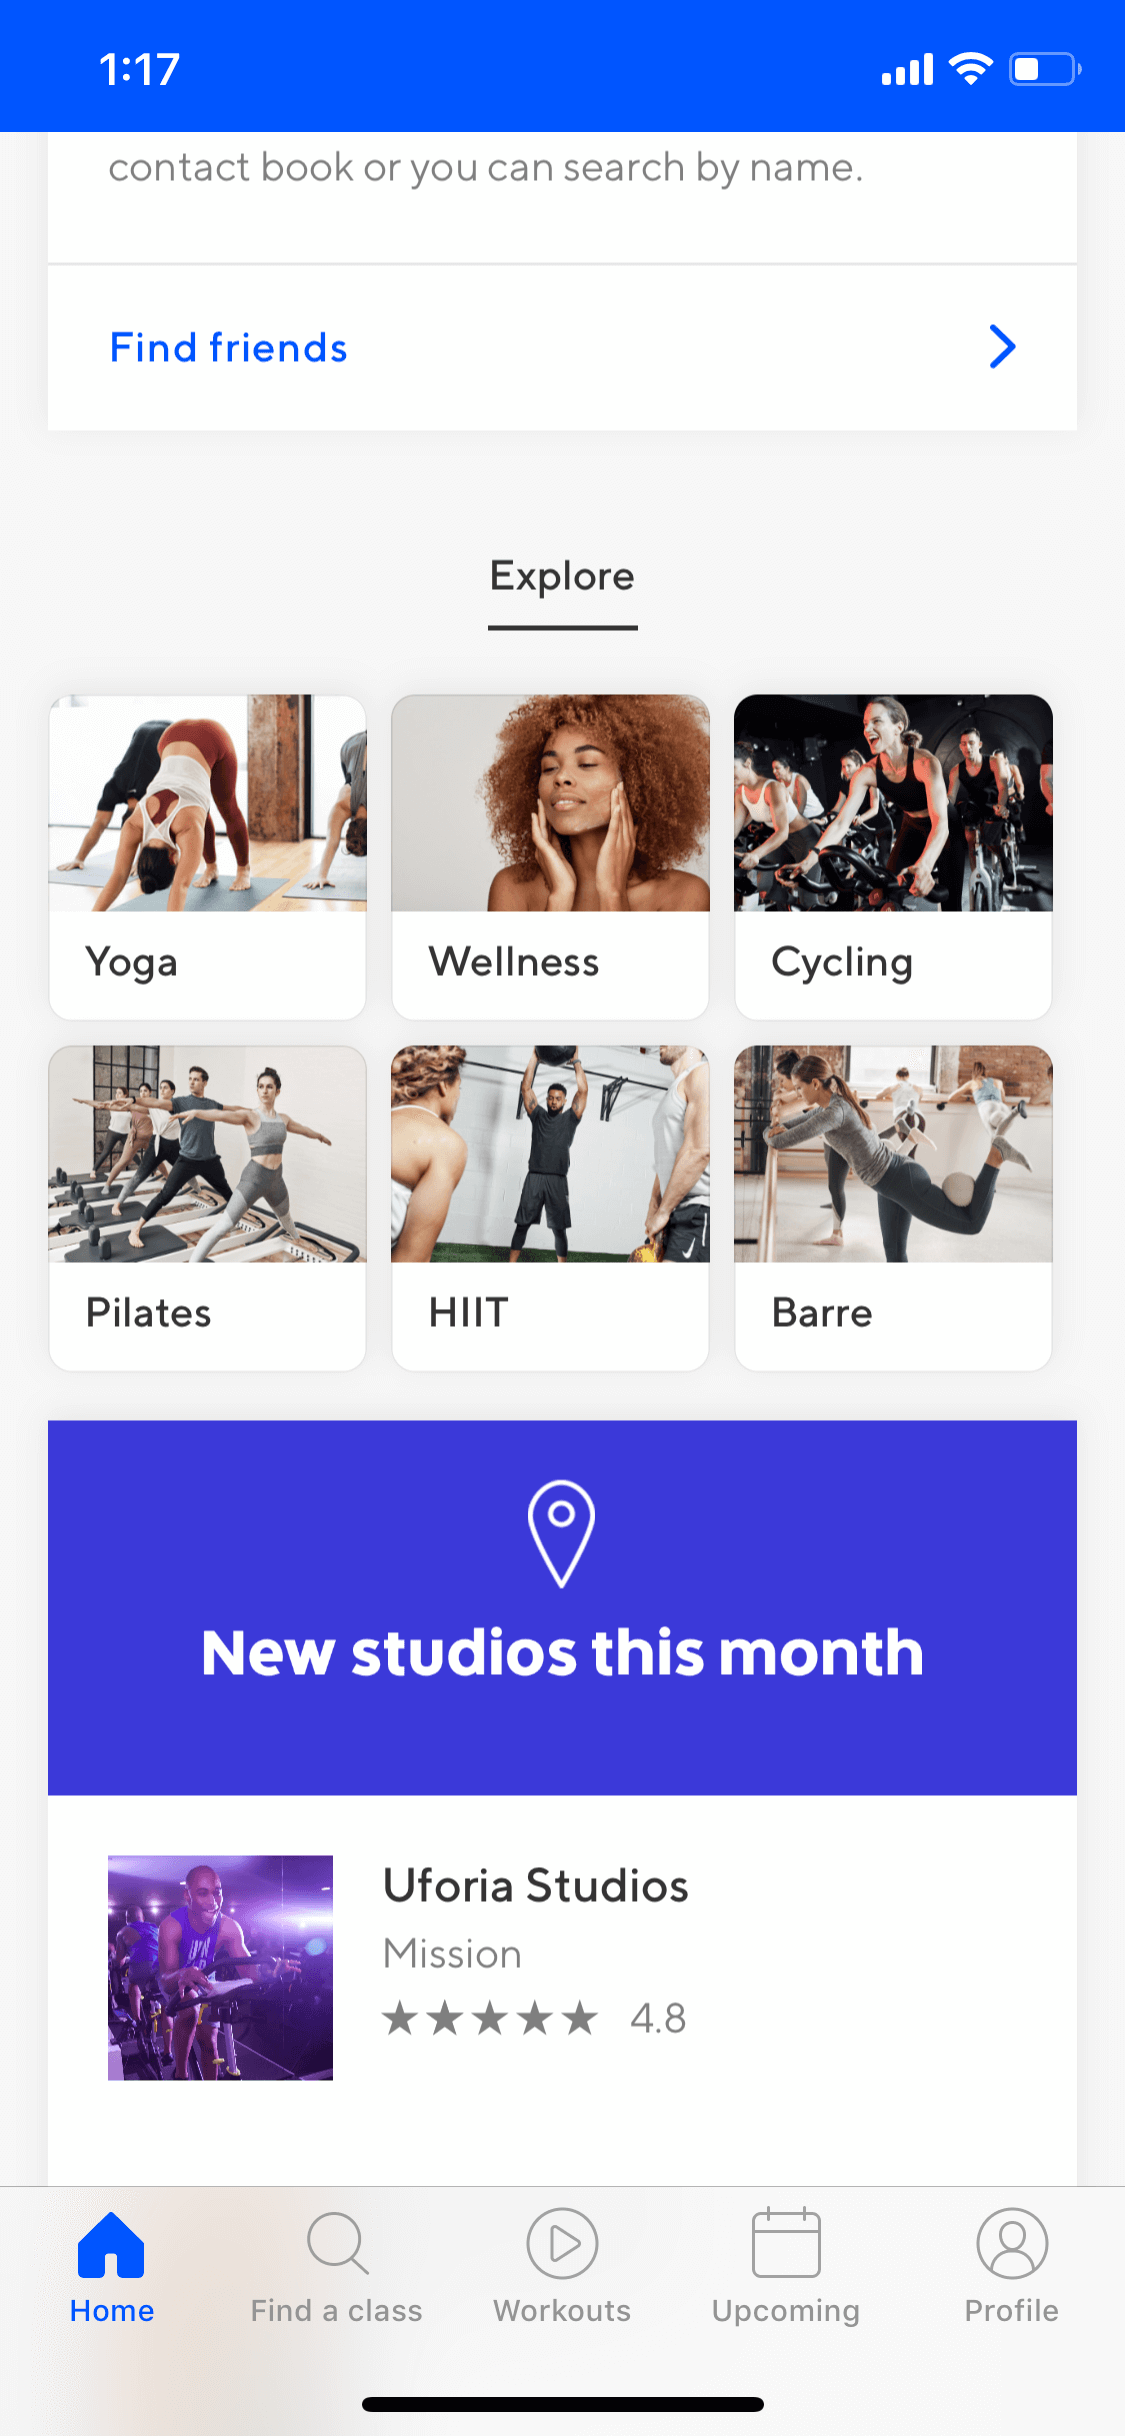Rating: (368, 1981, 721, 2060)
